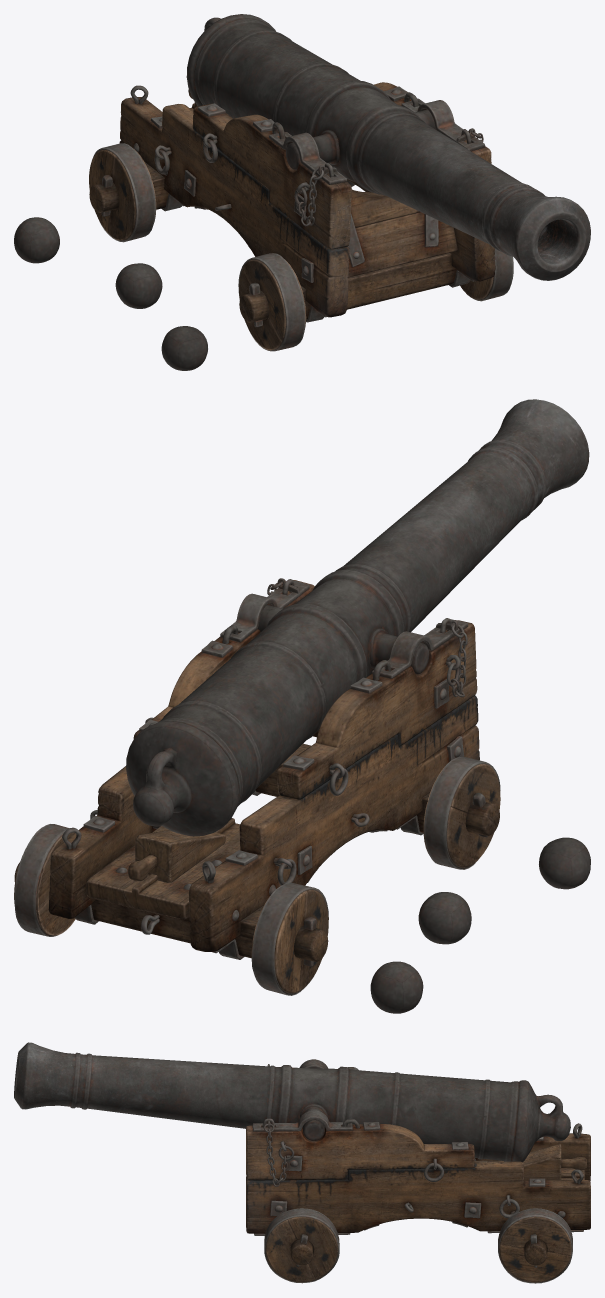
The model's file is canonmodel.glb.
3 views of the same model, one above another, from view 1: azimuth 30°, elevation 25°; view 2: azimuth 150°, elevation 25°; view 3: azimuth 270°, elevation 25° (orthographic). The views are drawn at different scales.
Visible parts, largest first — view 1: cannon_01_frame, cannon_01_barrel, cannon_01_wheel_02, cannon_01_wheel_01, cannon_01_ball_02, cannon_01_ball_03, cannon_01_ball_01, cannon_01_wheel_03; view 2: cannon_01_frame, cannon_01_barrel, cannon_01_wheel_01, cannon_01_wheel_02, cannon_01_wheel_04, cannon_01_pusherblock, cannon_01_ball_02, cannon_01_ball_03, cannon_01_ball_01; view 3: cannon_01_barrel, cannon_01_frame, cannon_01_wheel_04, cannon_01_wheel_03, cannon_01_pusherblock.
Part boxes in pixels (bbox=[...]): cannon_01_frame: bbox=[89, 82, 495, 327]; cannon_01_barrel: bbox=[186, 14, 590, 280]; cannon_01_wheel_02: bbox=[89, 143, 156, 242]; cannon_01_wheel_01: bbox=[238, 253, 306, 351]; cannon_01_ball_02: bbox=[115, 263, 162, 308]; cannon_01_ball_03: bbox=[14, 217, 59, 263]; cannon_01_ball_01: bbox=[161, 326, 207, 370]; cannon_01_wheel_03: bbox=[460, 248, 513, 301]; cannon_01_frame: bbox=[14, 578, 499, 966]; cannon_01_barrel: bbox=[126, 399, 589, 836]; cannon_01_wheel_01: bbox=[423, 757, 500, 869]; cannon_01_wheel_02: bbox=[251, 882, 328, 995]; cannon_01_wheel_04: bbox=[14, 824, 75, 936]; cannon_01_pusherblock: bbox=[128, 830, 225, 882]; cannon_01_ball_02: bbox=[418, 892, 471, 944]; cannon_01_ball_03: bbox=[370, 961, 423, 1013]; cannon_01_ball_01: bbox=[539, 837, 590, 889]; cannon_01_barrel: bbox=[14, 1042, 570, 1162]; cannon_01_frame: bbox=[246, 1059, 590, 1267]; cannon_01_wheel_04: bbox=[498, 1208, 572, 1283]; cannon_01_wheel_03: bbox=[264, 1208, 339, 1283]; cannon_01_pusherblock: bbox=[498, 1144, 586, 1180].
Bounding box in the file's own units: 1.23 × 0.8588 × 2.3.
Materials: 1 (1 with a texture image).
